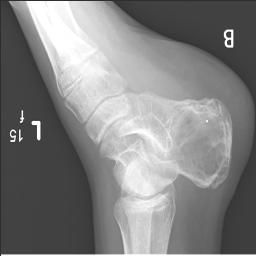cancer: (166, 97, 232, 184)
